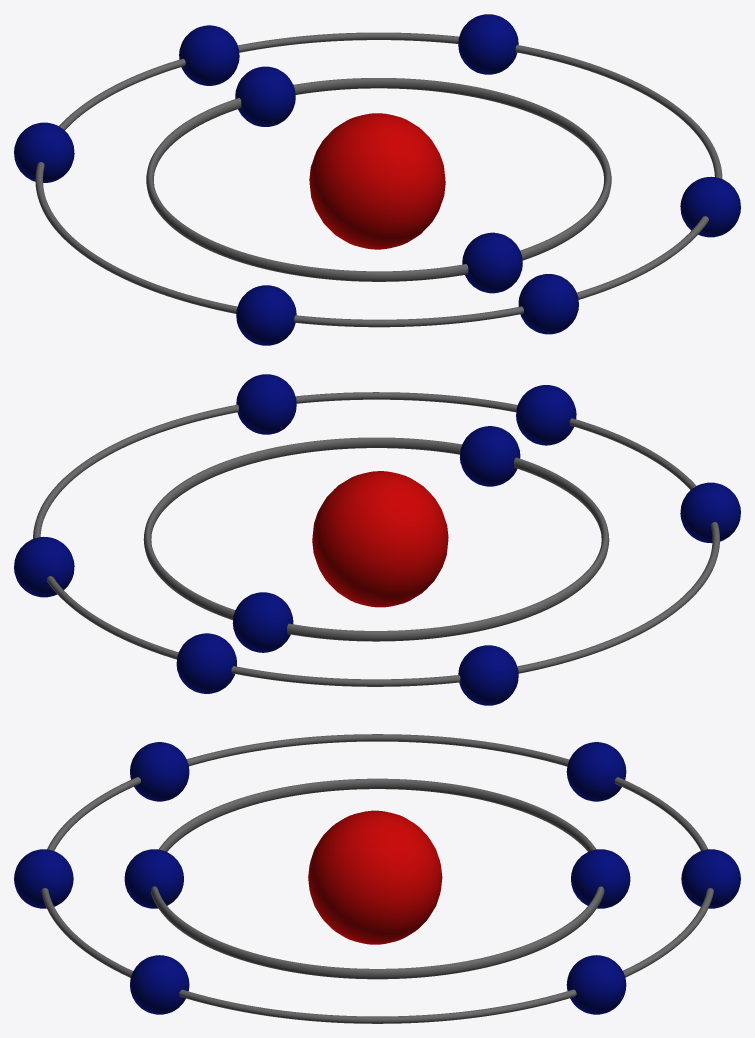
Rendered from oxygen atom.FBX.
3 views of the same model, one above another, from view 1: azimuth 30°, elevation 25°; view 2: azimuth 150°, elevation 25°; view 3: azimuth 270°, elevation 25° (orthographic).
Parts seen in each view (by area): view 1: Sphere003, Circle003, Circle004, Sphere009, Sphere010, Sphere006, Sphere005, Sphere007, Sphere004, Sphere008, Sphere011; view 2: Sphere003, Circle003, Circle004, Sphere008, Sphere011, Sphere005, Sphere006, Sphere007, Sphere004, Sphere010, Sphere009; view 3: Sphere003, Circle004, Circle003, Sphere011, Sphere010, Sphere009, Sphere008, Sphere006, Sphere005, Sphere004, Sphere007.
Part boxes in pixels (box(x1,y1,x2,y2)): Sphere003: box(309, 113, 445, 249); Circle003: box(35, 32, 722, 327); Circle004: box(146, 78, 611, 281); Sphere009: box(236, 285, 296, 345); Sphere010: box(458, 14, 518, 74); Sphere006: box(518, 274, 578, 334); Sphere005: box(179, 25, 239, 85); Sphere007: box(462, 232, 522, 293); Sphere004: box(235, 66, 295, 126); Sphere008: box(14, 122, 74, 183); Sphere011: box(680, 176, 740, 237); Sphere003: box(312, 471, 448, 607); Circle003: box(33, 392, 719, 686); Circle004: box(143, 437, 609, 641); Sphere008: box(458, 645, 518, 705); Sphere011: box(236, 374, 296, 434); Sphere005: box(176, 633, 236, 693); Sphere006: box(516, 385, 576, 445); Sphere007: box(460, 426, 520, 486); Sphere004: box(232, 592, 293, 652); Sphere010: box(14, 536, 74, 597); Sphere009: box(680, 482, 740, 543); Sphere003: box(308, 810, 442, 944); Circle004: box(150, 778, 604, 979); Circle003: box(41, 734, 713, 1023); Sphere011: box(130, 955, 189, 1014); Sphere010: box(566, 955, 626, 1014); Sphere009: box(130, 742, 189, 801); Sphere008: box(566, 742, 626, 801); Sphere006: box(14, 849, 73, 908); Sphere005: box(681, 849, 740, 908); Sphere004: box(571, 849, 630, 908); Sphere007: box(124, 849, 183, 908).
Bounding box in the file's own units: 90.57 × 18 × 97.48.
